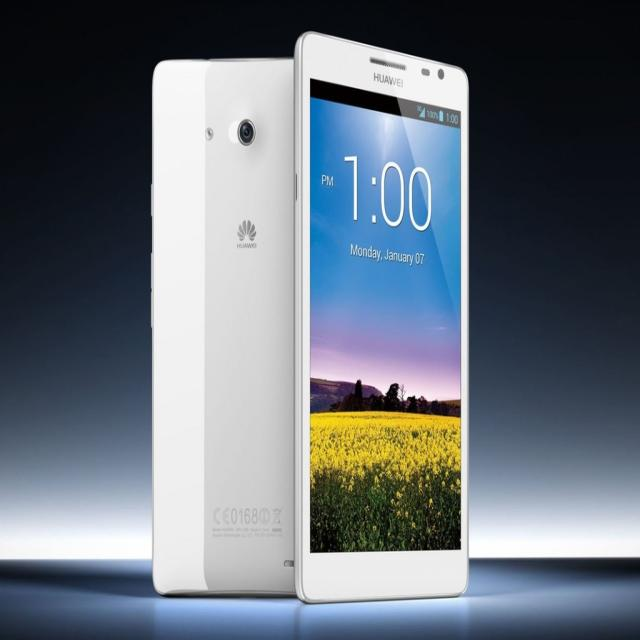Mobile-phone: (283, 31, 474, 625), (151, 57, 295, 599)
